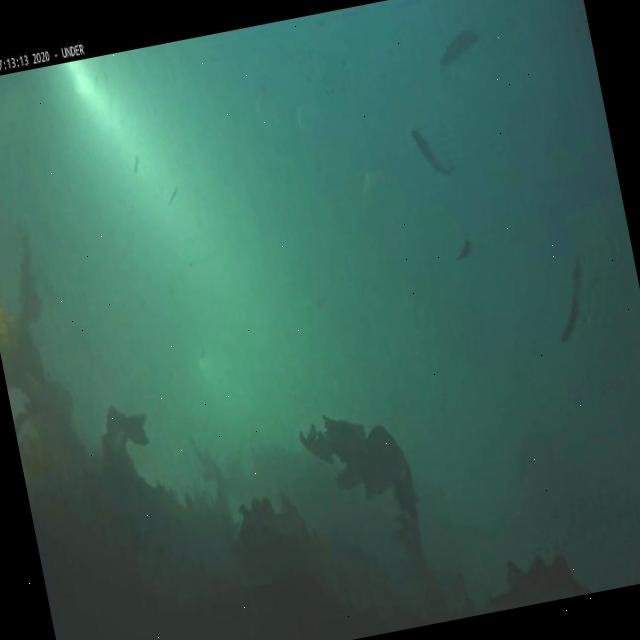fish: (410, 122, 454, 186), (431, 25, 484, 70)
